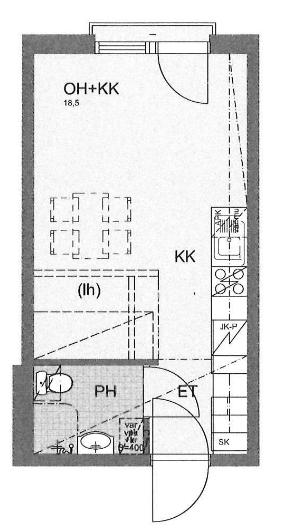bathroom: (32, 366, 144, 458)
door: (149, 451, 211, 521), (151, 394, 211, 463), (157, 35, 213, 106), (138, 364, 201, 422)
perimeter: (21, 33, 260, 467)
window: (90, 36, 155, 57)
